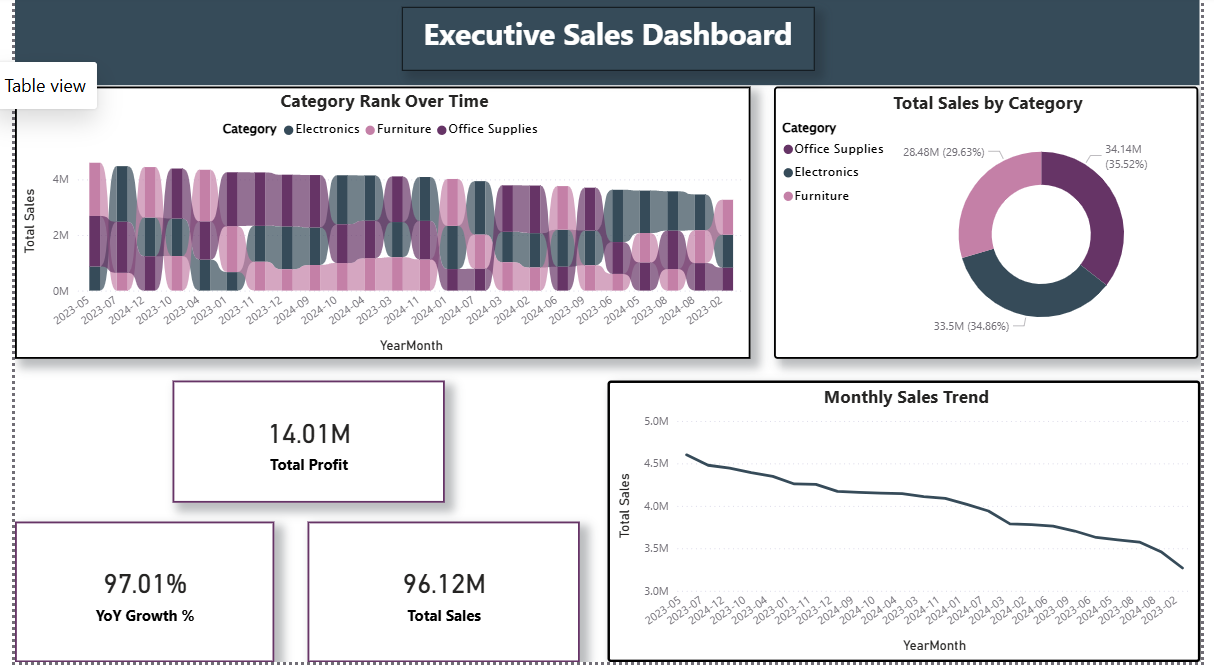

Layout of this report page (visuals, bound fields, positions):
{"tool":"powerbi","page":{"name":"Executive Dashboard","canvas":[1280,720],"ordinal":0},"visuals":[{"type":"card","fields":{"Values":["FactSales.Total Sales"]},"box":[316,568,294,152],"z":0},{"type":"card","fields":{"Values":["FactSales.Total Profit"]},"box":[170,416,294,132],"z":1000},{"type":"card","fields":{"Values":["FactSales.YoY Growth %"]},"box":[0,568,280,152],"z":2000},{"type":"donutChart","fields":{"Category":["FactSales.Category"],"Y":["FactSales.Total Sales"]},"box":[820,98,458,294],"z":3000},{"type":"ribbonChart","title":"Category Rank Over Time","fields":{"Category":["DimDate.YearMonth"],"Series":["FactSales.Category"],"Y":["FactSales.Total Sales"]},"box":[0,98,794,294],"z":4000},{"type":"shape","box":[0,0,1278.8,97.5],"z":5000},{"type":"lineChart","title":"Monthly Sales Trend","fields":{"Category":["DimDate.YearMonth"],"Y":["FactSales.Total Sales"]},"box":[640,416,640,304],"z":6000},{"type":"textbox","box":[417.5,13.8,445,68.8],"z":7000}]}

Visuals, with their boxes in screenshot pixels (x1, y1, x2, y2):
card - FactSales.Total Sales: [x1=309, y1=518, x2=579, y2=658]
card - FactSales.Total Profit: [x1=175, y1=379, x2=445, y2=500]
card - FactSales.YoY Growth %: [x1=19, y1=518, x2=276, y2=658]
donutChart - FactSales.Category x FactSales.Total Sales: [x1=772, y1=87, x2=1192, y2=357]
"Category Rank Over Time" ribbonChart: [x1=19, y1=87, x2=748, y2=357]
shape: [x1=19, y1=0, x2=1193, y2=86]
"Monthly Sales Trend" lineChart: [x1=606, y1=379, x2=1194, y2=658]
textbox: [x1=402, y1=10, x2=811, y2=73]
